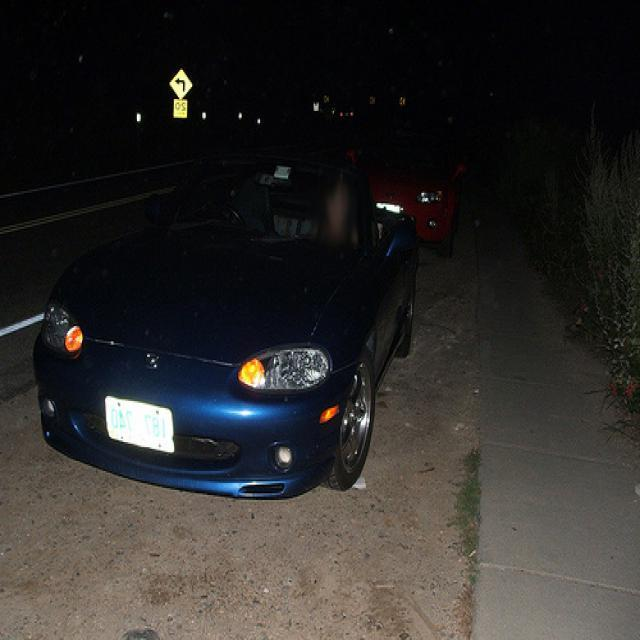Car: (1, 123, 448, 513), (298, 100, 493, 262)
